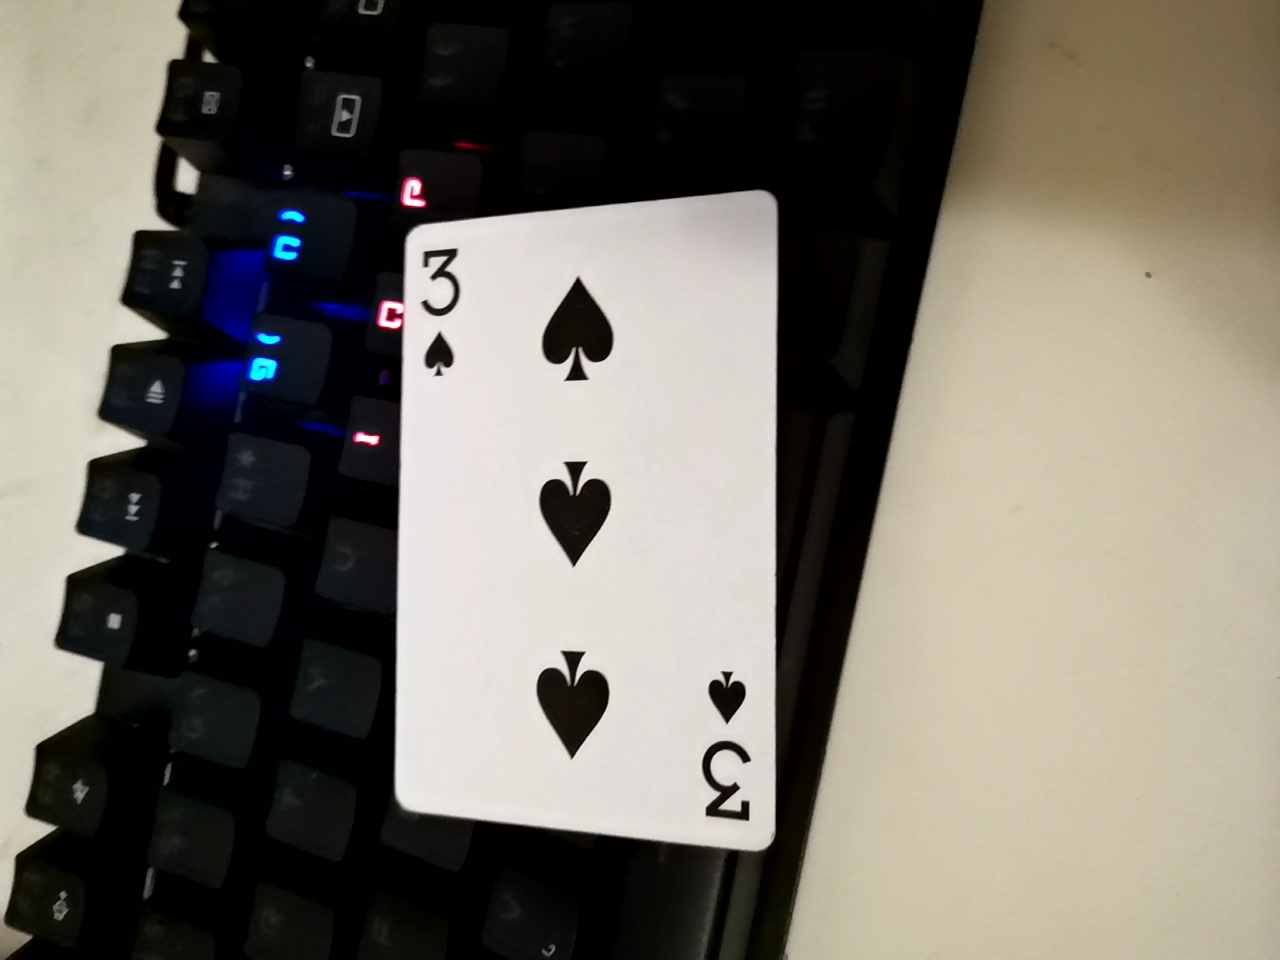ht 3: (367, 183, 789, 898)
